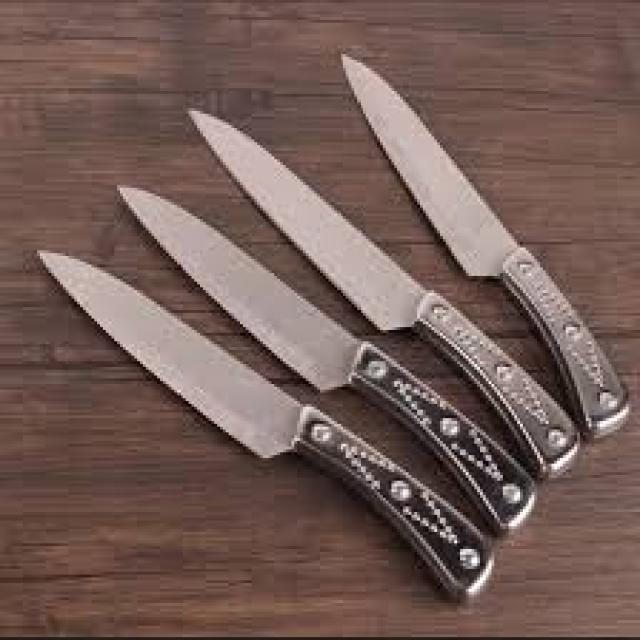Knife: (37, 250, 491, 597), (117, 185, 534, 529), (189, 108, 577, 475), (343, 51, 629, 435)
